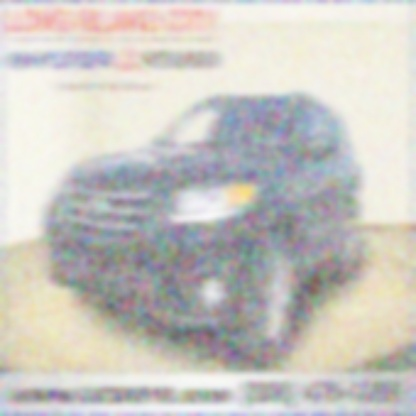Vehicle: (47, 97, 366, 358)
